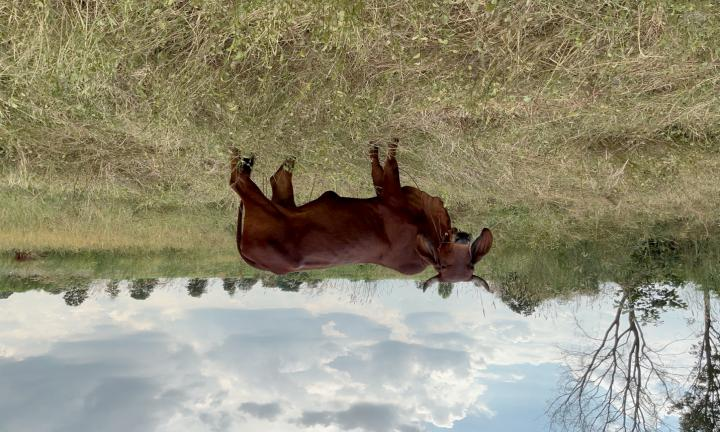Brahman: (231, 143, 492, 291)
